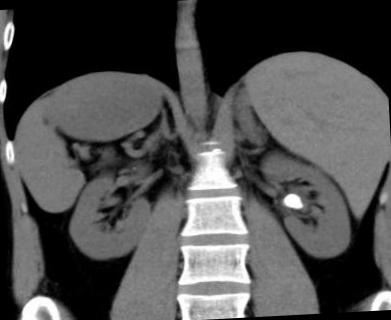Tas_Var: (278, 189, 306, 215)
